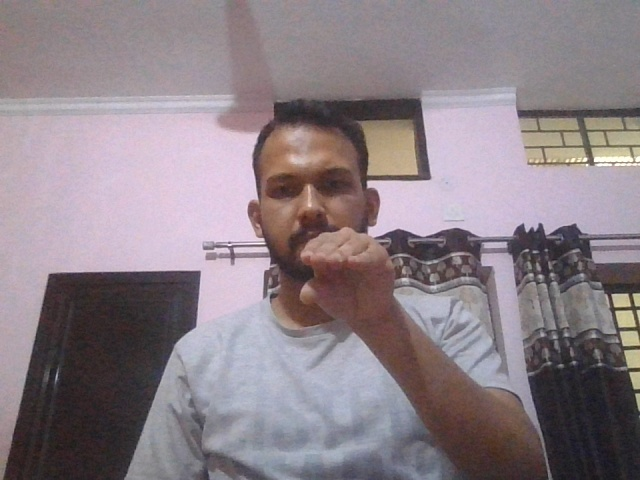no: (298, 226, 397, 330)
